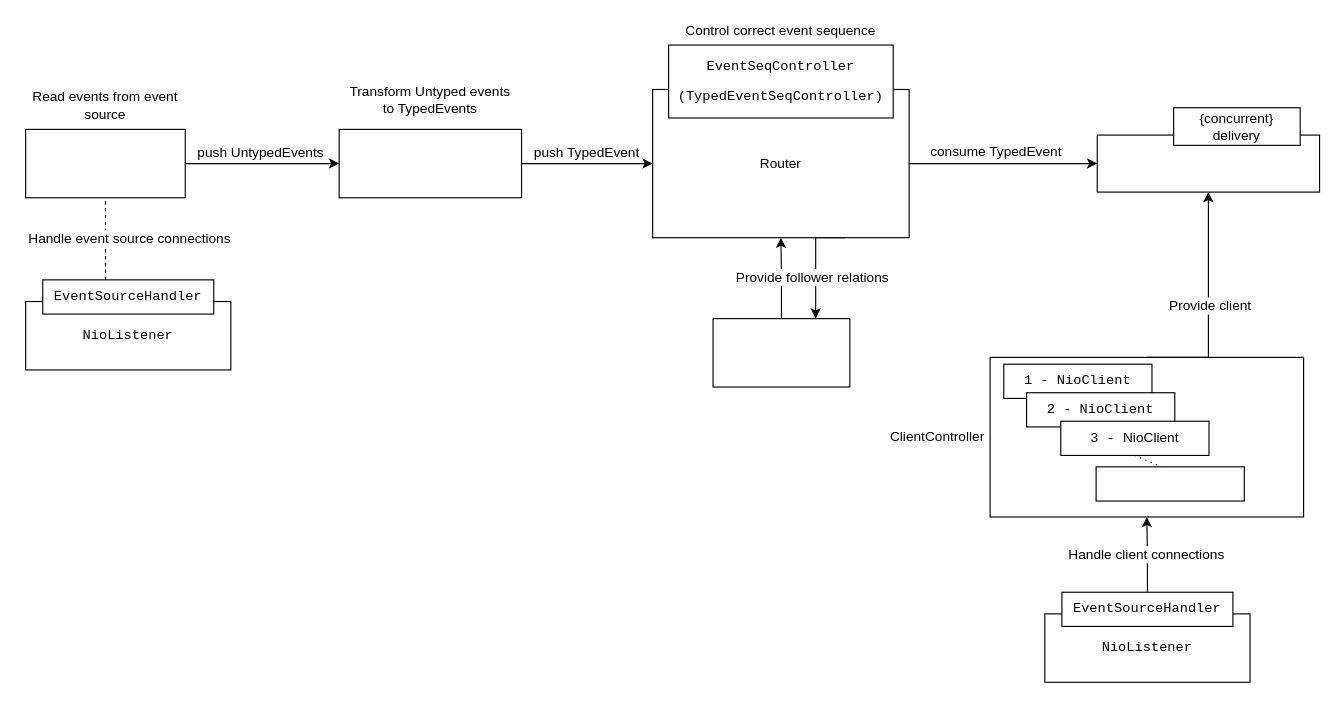
Some shapes in this 1340 by 702 pixel diagram are drawn without their labels. The shapes that lost their labels are listed below. From the top down, each one's box as (x1, y1, x2, y2) in pixels, then its label:
(25, 128, 185, 198): EventSource (UntypedEventSource)
(338, 128, 522, 198): EventTransformer ( ToTypedEventTransformer )
(1096, 134, 1320, 192): NioClient & EventConsumer
(712, 317, 850, 387): FollowController
(1095, 466, 1244, 501): n - NioClient
